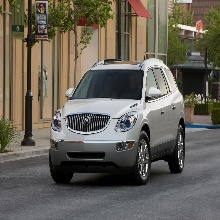no damage: (49, 60, 187, 184)
